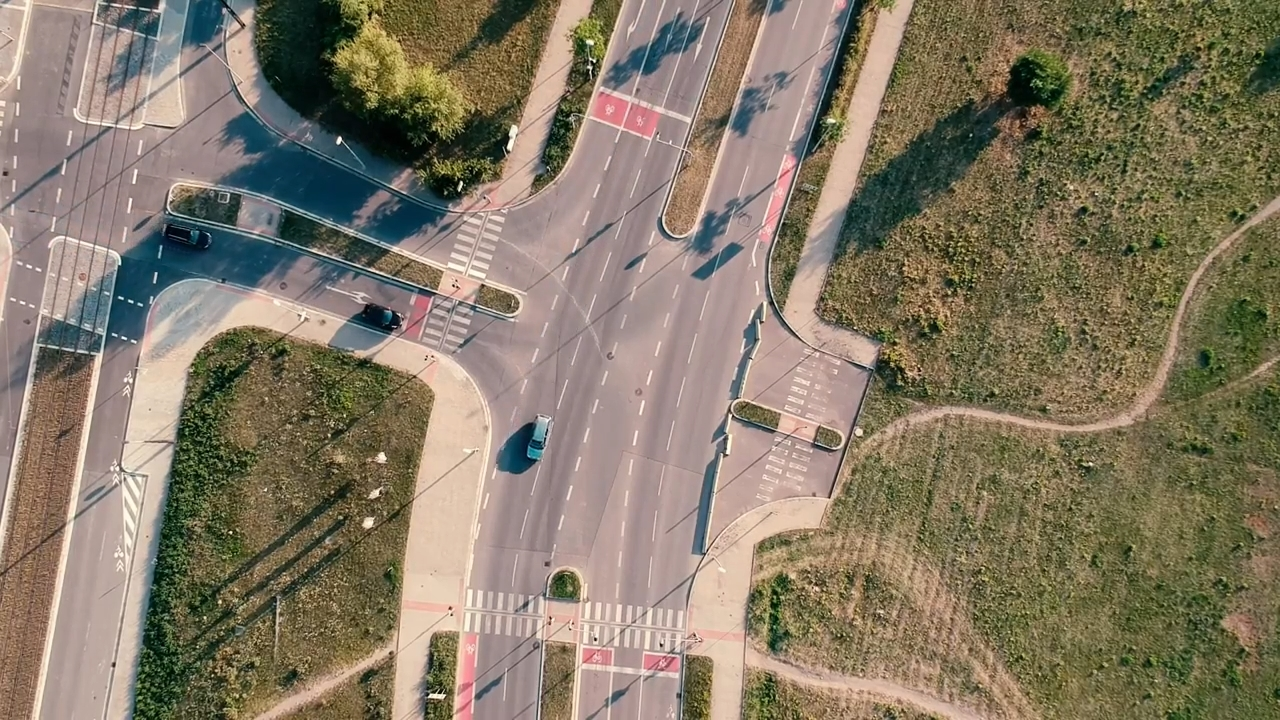car: (522, 412, 552, 461), (164, 220, 212, 249), (364, 300, 405, 333)
